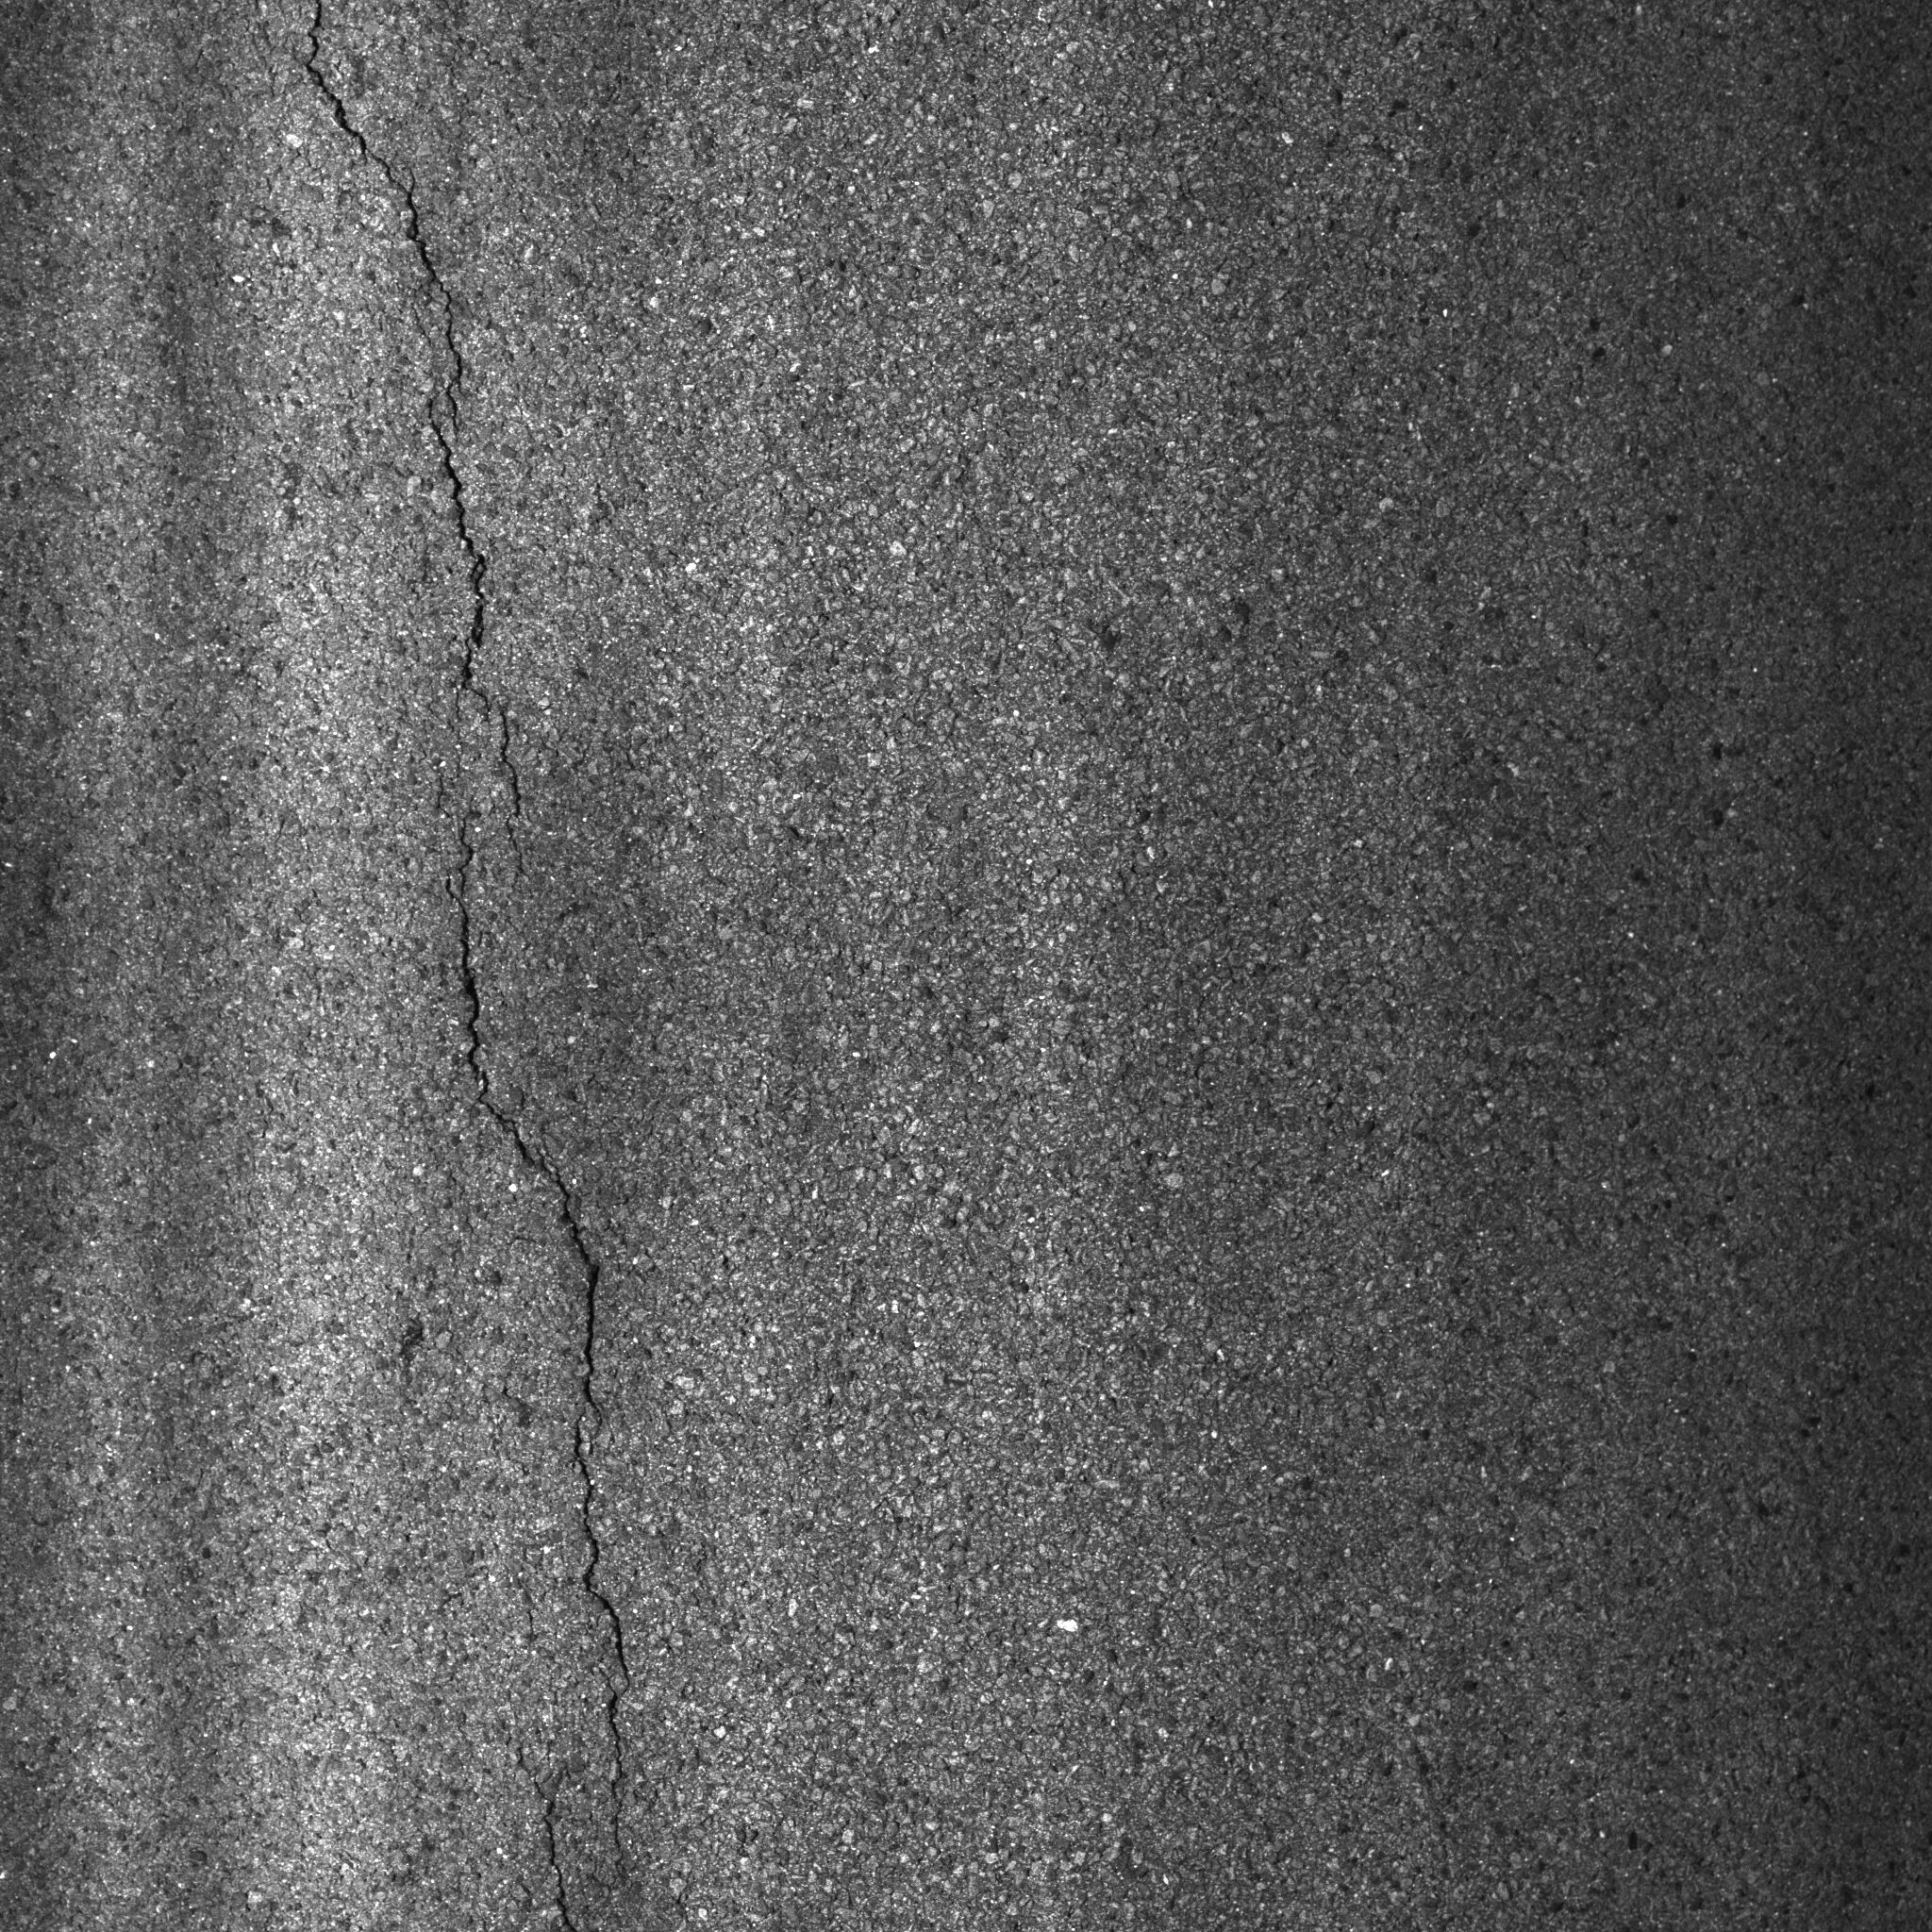longitudinal: (269, 5, 741, 1925)
